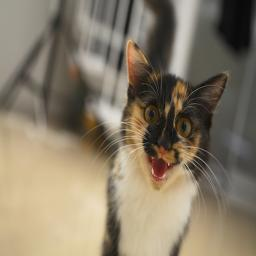catnose: (156, 136, 173, 158)
